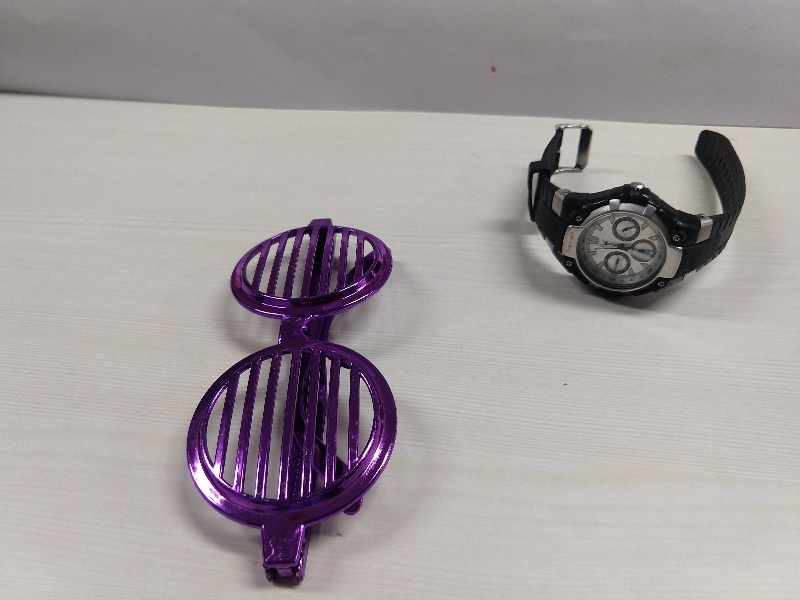shades: (180, 214, 420, 584)
watch: (516, 118, 761, 299)
